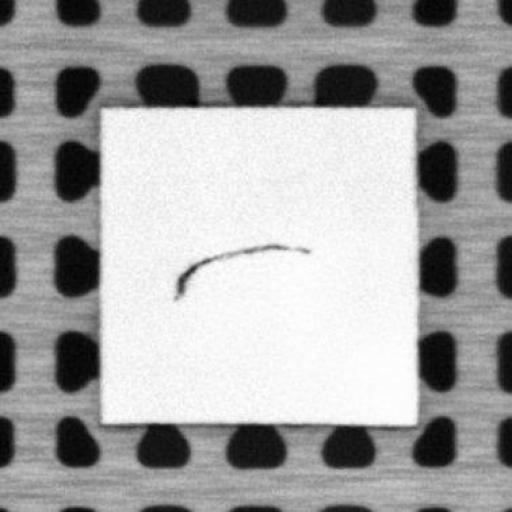DIE_INK: (166, 240, 312, 298)
